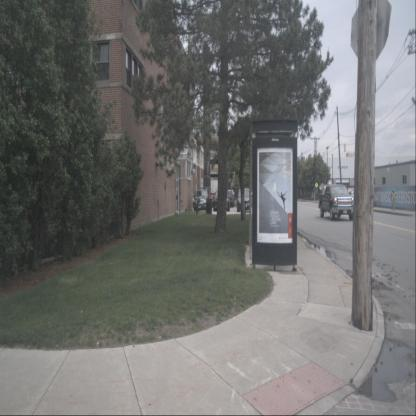vehicle-car: (318, 183, 355, 221), (193, 188, 211, 211), (214, 188, 230, 212), (237, 188, 252, 212), (224, 190, 234, 208), (207, 191, 216, 207)
